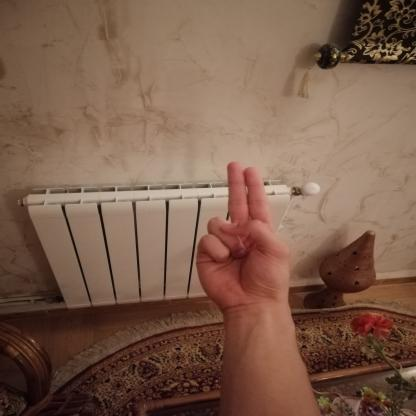TA: (177, 152, 314, 322)
